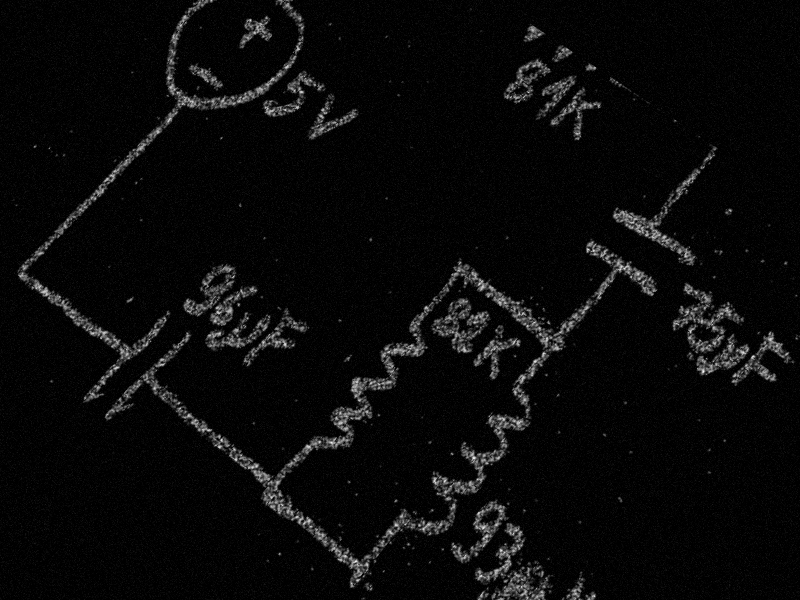1: (520, 63, 583, 129)
2: (445, 304, 499, 360)
3: (464, 518, 536, 593)
5: (255, 60, 331, 135), (681, 293, 753, 366)
6: (203, 273, 261, 334)
7: (651, 276, 724, 347)
8: (494, 50, 557, 112), (424, 289, 479, 345)
9: (440, 492, 516, 570), (173, 252, 245, 326)
F: (237, 305, 314, 384), (724, 328, 800, 407)
H: (522, 570, 612, 600)
V: (292, 87, 364, 156)
k: (543, 81, 613, 150), (465, 323, 527, 384)
m: (476, 564, 560, 600)
u: (207, 300, 275, 368), (699, 333, 753, 387)
